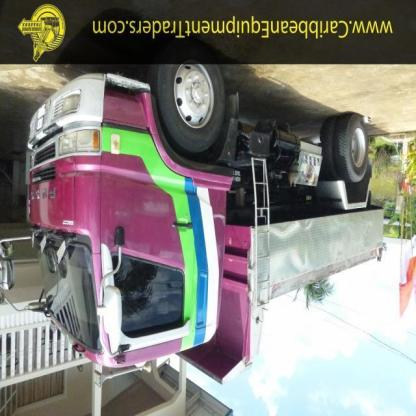truck: (3, 64, 387, 387)
